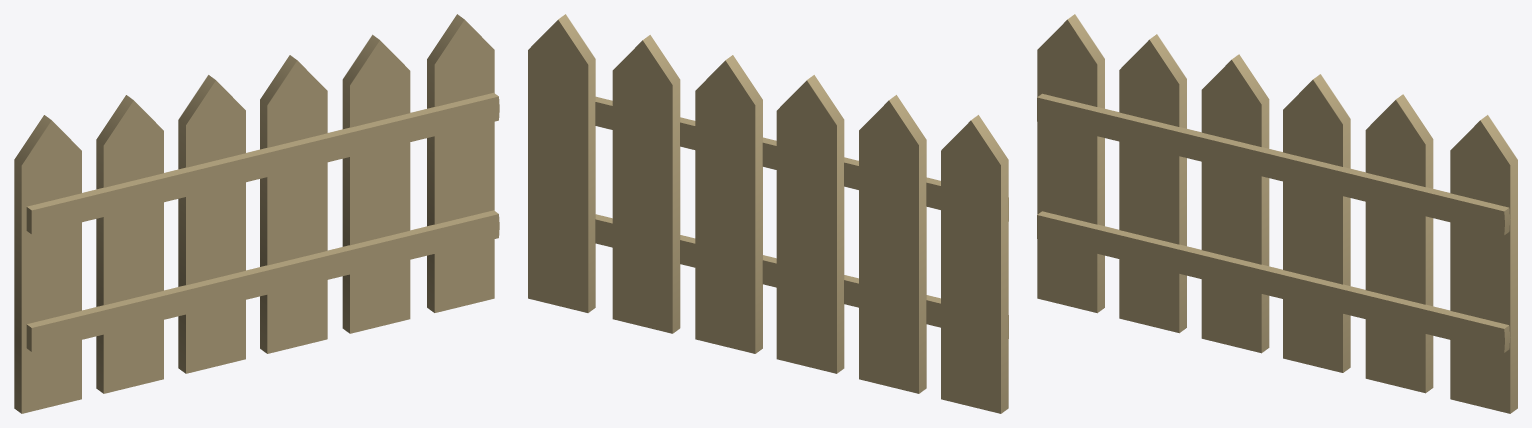
File: Fence.dae
3 renders of one model, left to right at view 1: azimuth 30°, elevation 25°; view 2: azimuth 150°, elevation 25°; view 3: azimuth 330°, elevation 25°, orthographic.
Visible parts, largest first — view 1: Fence; view 2: Fence; view 3: Fence.
Part boxes in pixels (x1,y1,x2,y2): Fence: (14, 14, 499, 413); Fence: (528, 14, 1008, 413); Fence: (1037, 14, 1517, 413).
Size of the model in its own units: 87.7 by 50.74 by 4.08.
